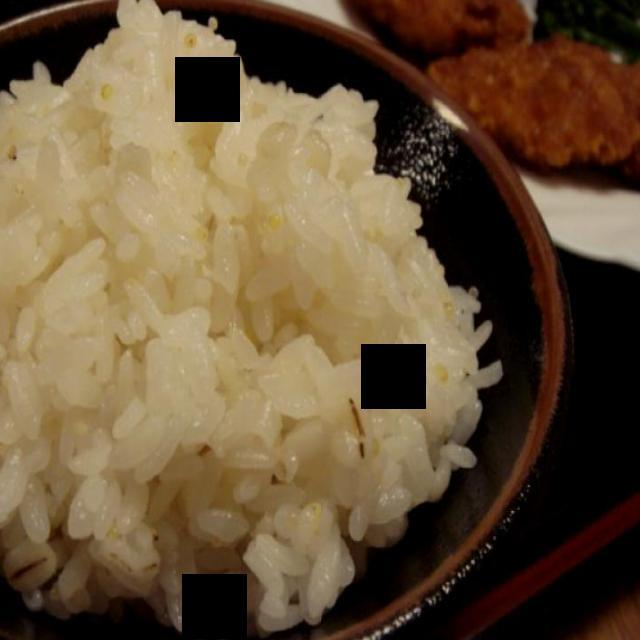rice: (0, 0, 500, 636)
